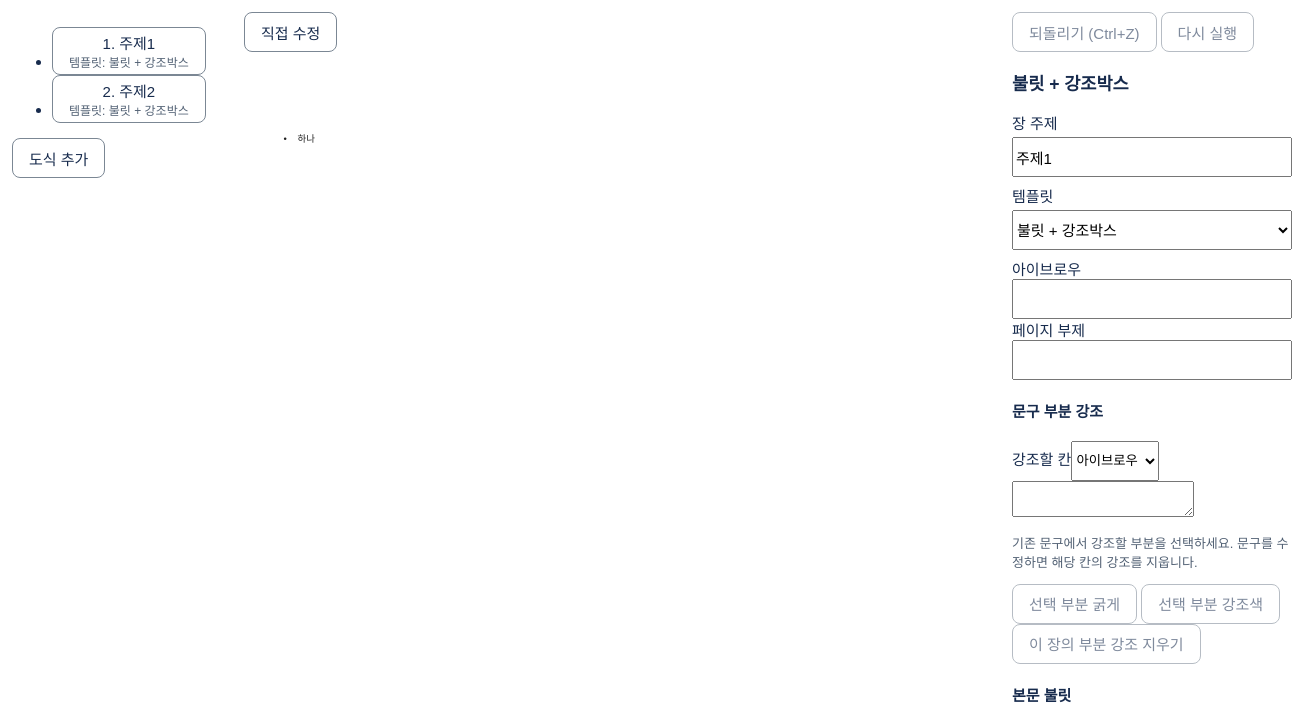
Test: 되돌린 서버 덱에 현재 장이 없으면 첫 장이 선택된다 (A5)
Expected: the text "하나" is shown, [298,133,315,144]
Click the button "2. 주제2 템플릿: 불릿 + 강조박스": (129, 99) [52,75,206,123]
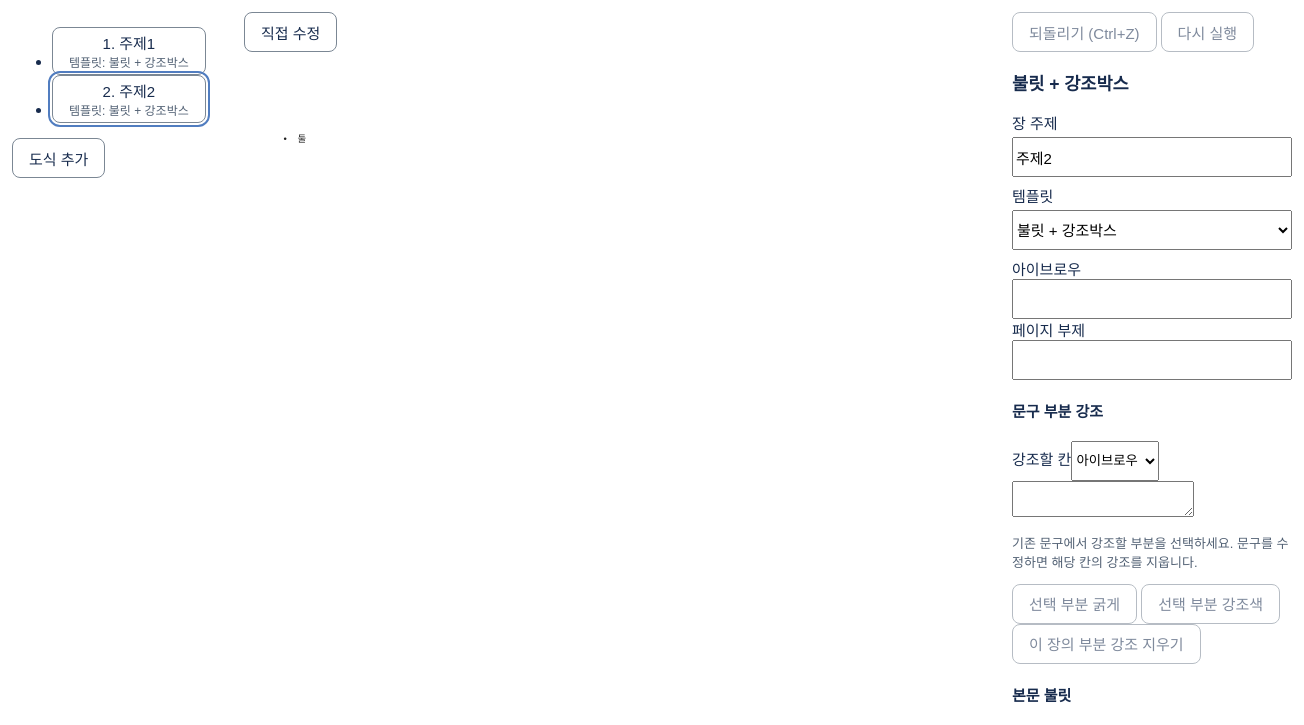
Now the text "둘" is shown
Click the text "둘": (302, 139) [298,133,306,144]
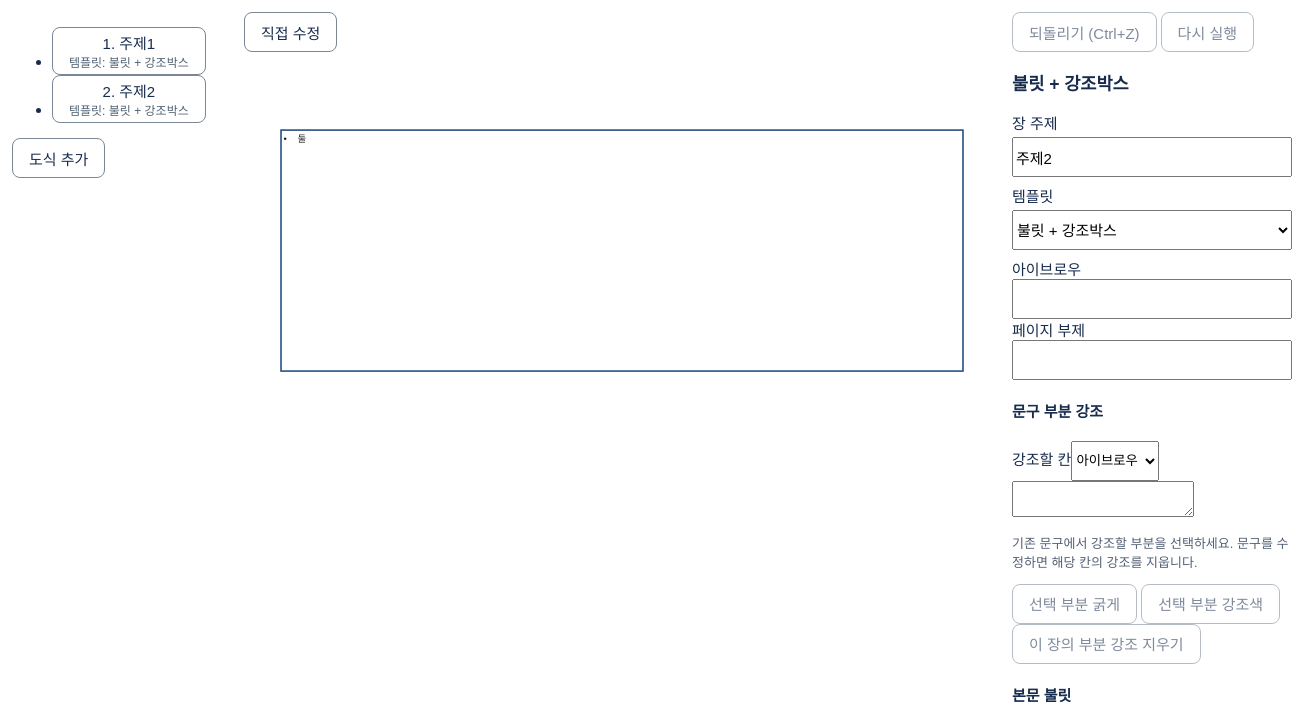
Click the text "둘": (302, 139) [298,133,306,144]
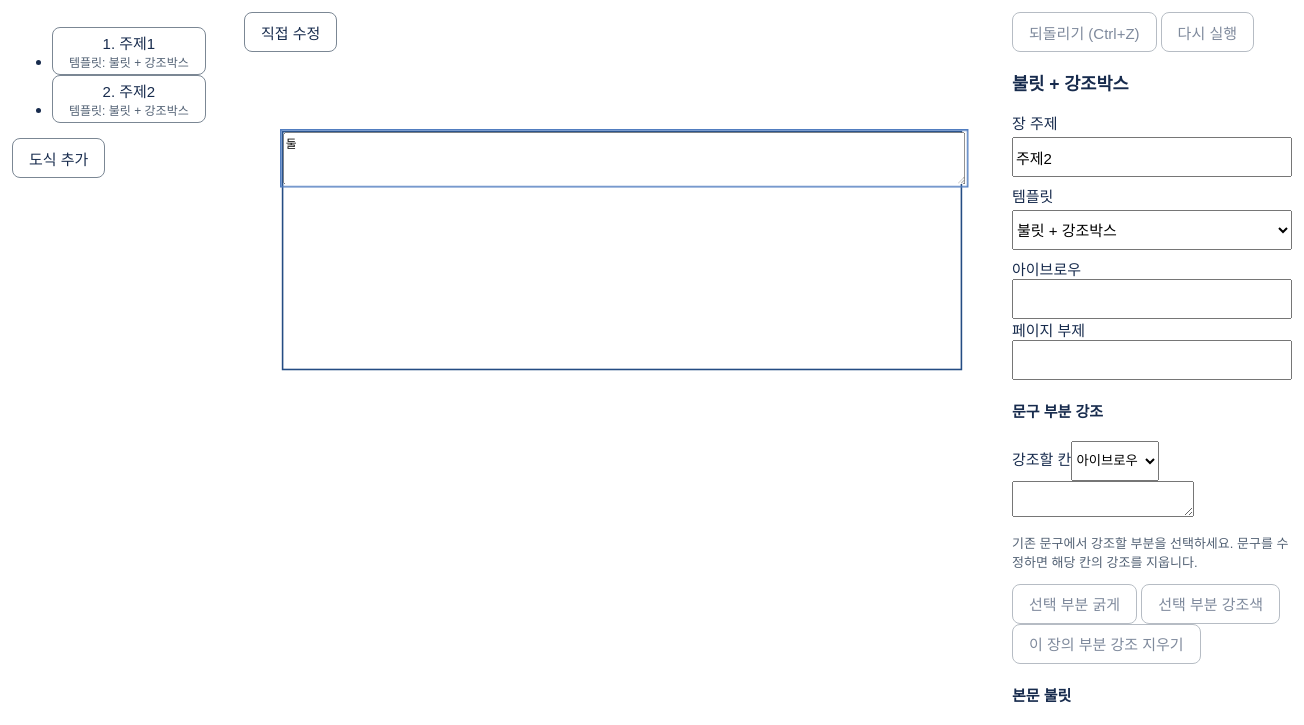
Replace the text in the text box named "내용 수정" with "고침": (624, 158) [283,132,965,184]
Then press Enter
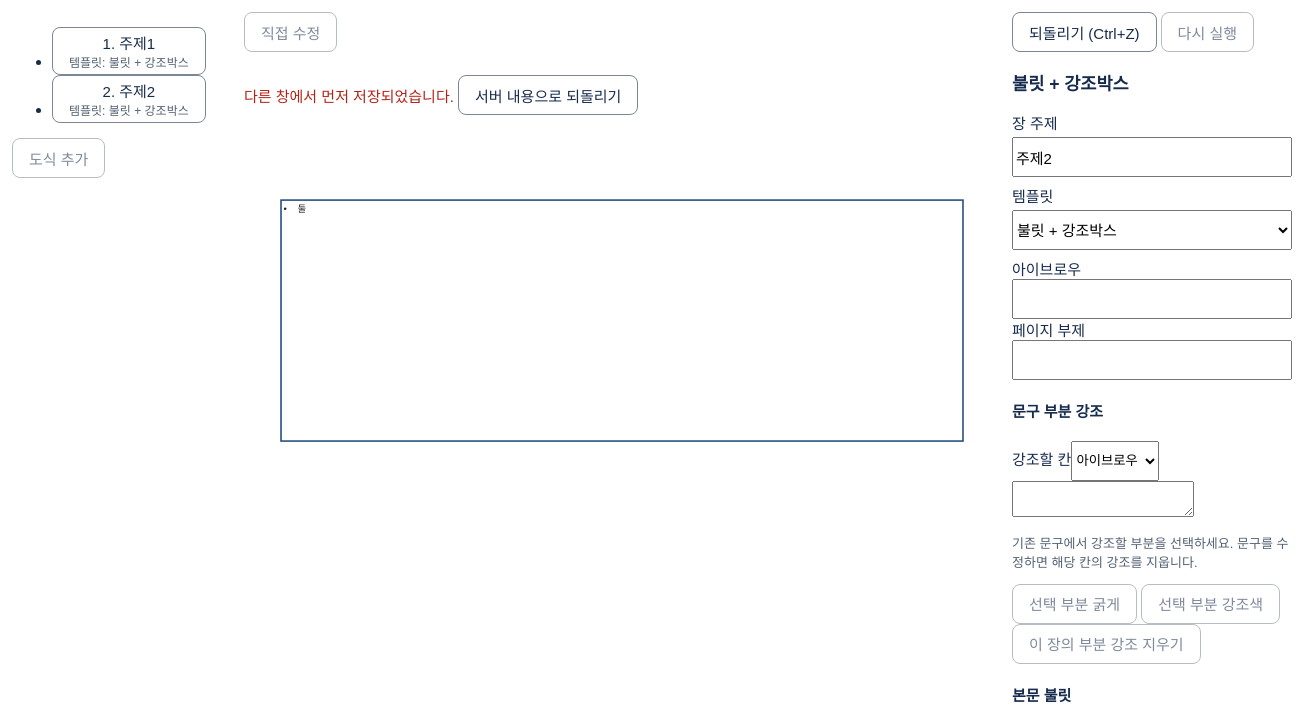
Click the button "서버 내용으로 되돌리기": (548, 95) [458,75,638,115]
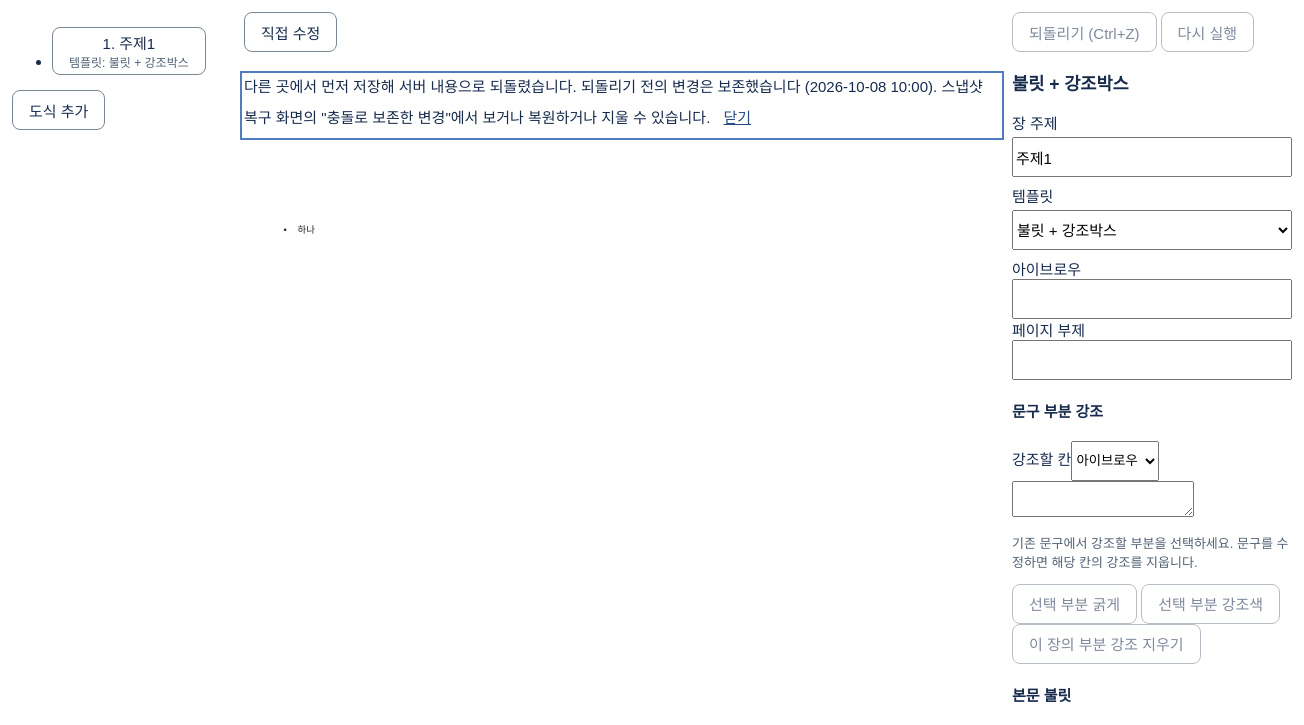
Now the text "하나" is shown, box [298,224,315,235]
